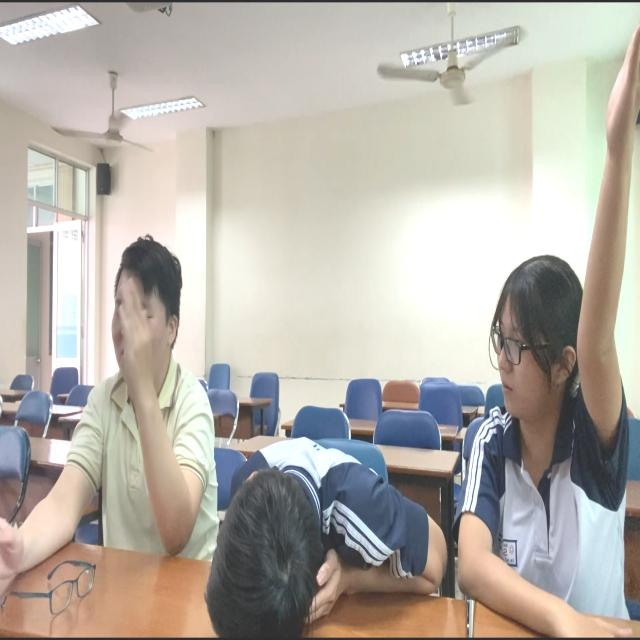raise_hand: (488, 13, 640, 640), (82, 231, 192, 581)
sleep: (205, 435, 447, 638)
